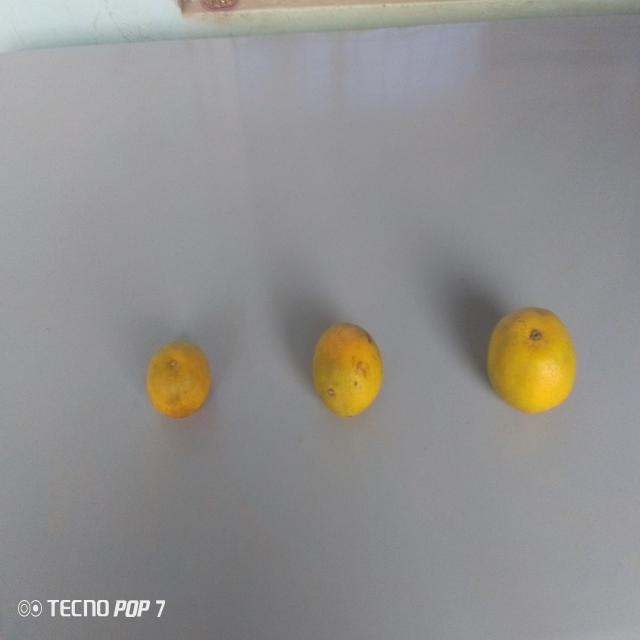Ripe orange: (480, 302, 580, 422), (305, 316, 389, 421), (145, 336, 208, 440)
